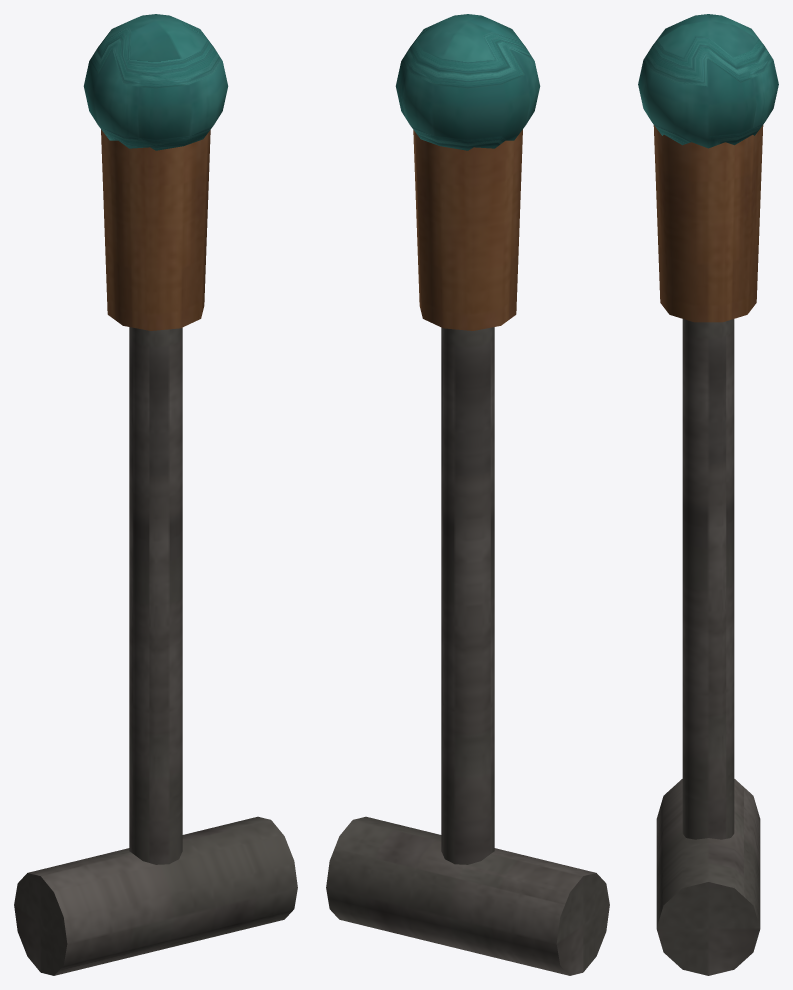
Rendered from lever-handle.glb.
3 renders of one model, left to right at view 1: azimuth 30°, elevation 25°; view 2: azimuth 150°, elevation 25°; view 3: azimuth 270°, elevation 25°, orthographic. The views are drawn at different scales.
Visible parts, largest first — view 1: LeverHandle_iron, LeverHandle_oak, LeverHandle_teal; view 2: LeverHandle_iron, LeverHandle_oak, LeverHandle_teal; view 3: LeverHandle_iron, LeverHandle_oak, LeverHandle_teal.
Part boxes in pixels (x1,y1,x2,y2): LeverHandle_iron: [14, 327, 297, 975]; LeverHandle_oak: [101, 129, 210, 330]; LeverHandle_teal: [83, 14, 228, 150]; LeverHandle_iron: [326, 327, 609, 975]; LeverHandle_oak: [413, 129, 522, 330]; LeverHandle_teal: [395, 14, 540, 150]; LeverHandle_iron: [656, 319, 760, 975]; LeverHandle_oak: [653, 125, 763, 322]; LeverHandle_teal: [638, 14, 778, 148].
Bounding box in the file's own units: 0.14 × 0.536 × 0.076.
Materials: 3 (3 with a texture image).
